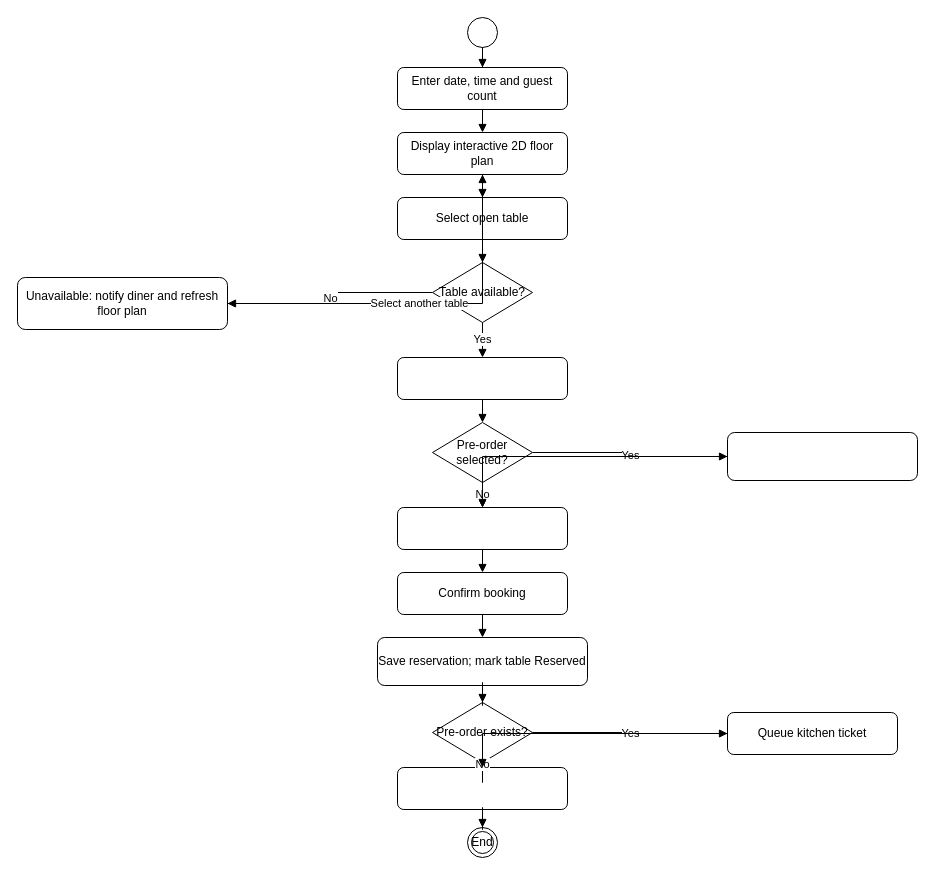
This 935x875 diagram has some shape labels left out. Here are the shapes that lost their labels. From the top down, the box of each, then its label:
(466, 16, 498, 48): Start
(396, 356, 568, 400): Optionally select menu items
(726, 432, 918, 480): Calculate kitchen preparation time
(396, 506, 568, 550): Review booking details
(396, 766, 568, 810): Display confirmation
